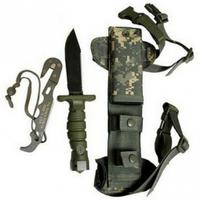knife: (54, 24, 100, 171)
